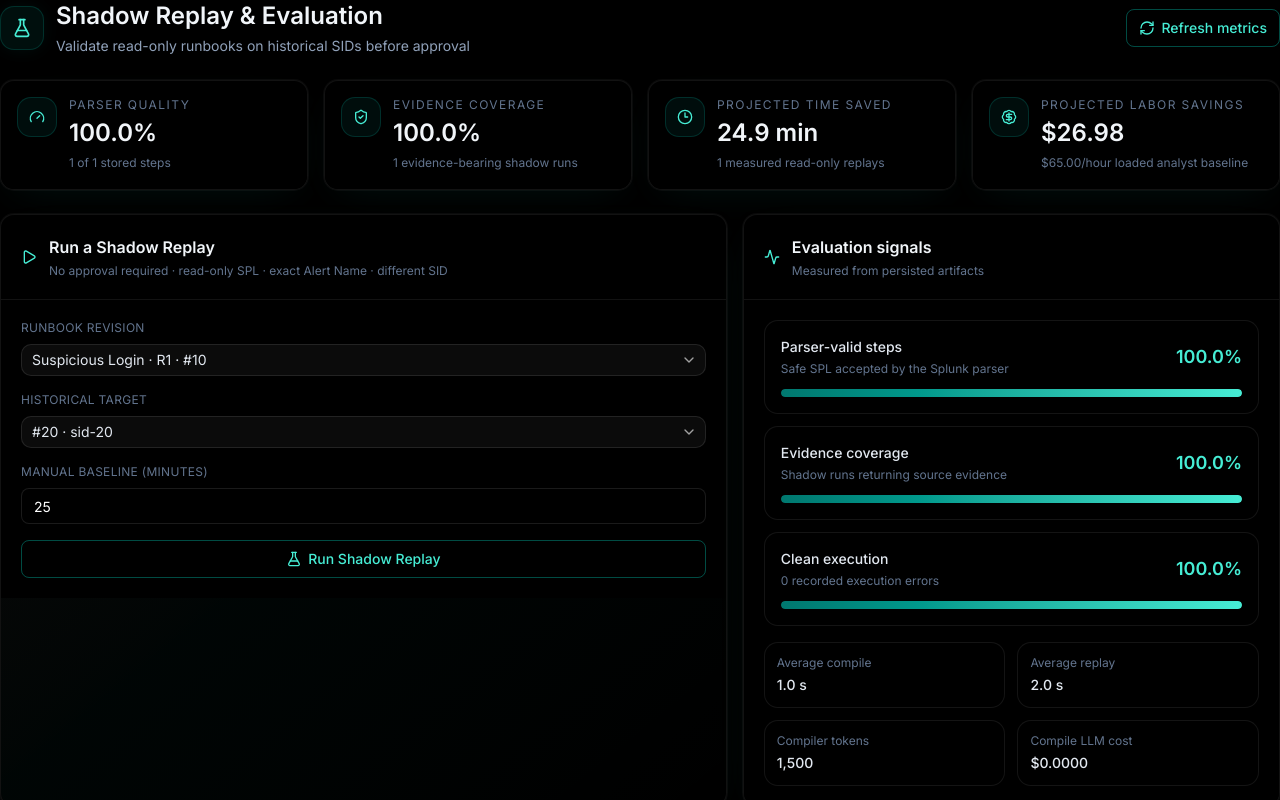
it: RunbookEvaluationContent › executes replay and renders its persisted result
The image size is (1280, 800).
Click the button "Run Shadow Replay".
click(363, 559)  # box [21,540,706,578]
(page scrolled)
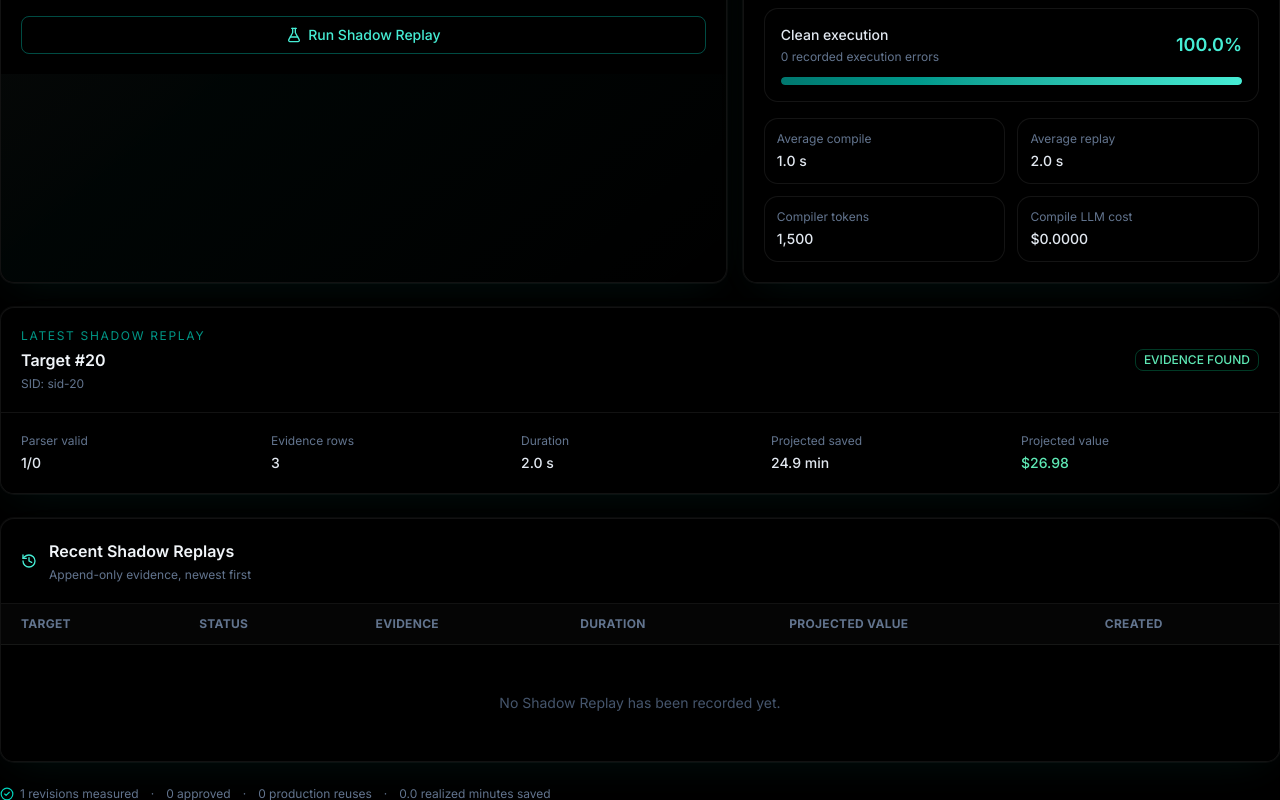
expect the element with test id "shadow-replay-result" shows "EVIDENCE FOUND": met, box [1144,352,1250,367]
